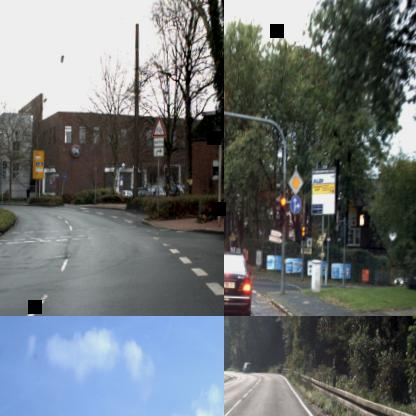CYCLES CROSSING: (152, 114, 168, 138)
go right: (290, 194, 301, 213)
priority road: (288, 168, 304, 196)
